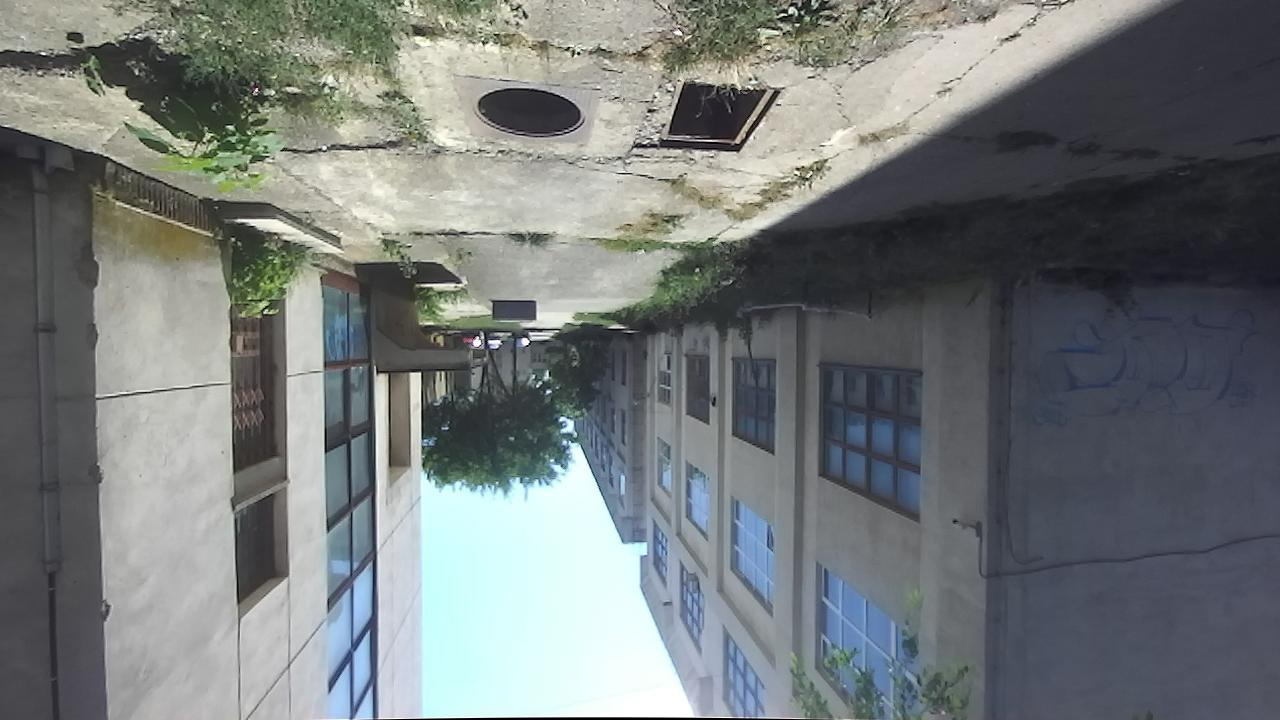drain: (653, 75, 790, 159), (464, 84, 594, 142)
